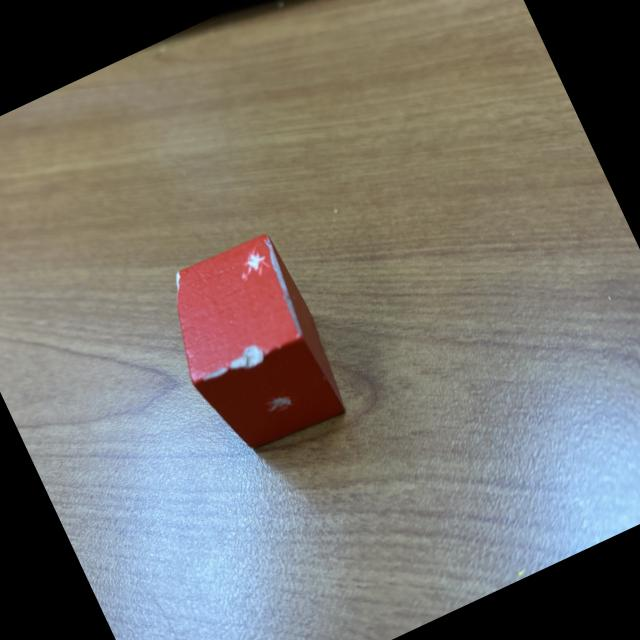broken: (147, 227, 356, 466)
